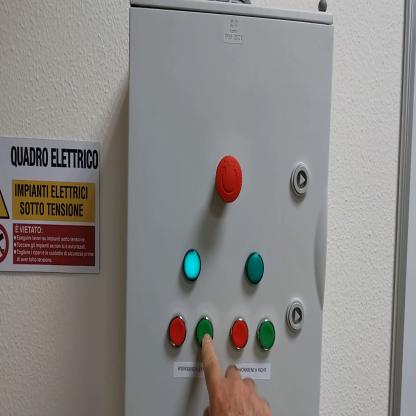hand: (202, 335, 273, 412)
left green button: (196, 317, 215, 348)
left red button: (168, 315, 187, 349)
right green button: (258, 320, 276, 351)
right red button: (231, 318, 249, 351)
